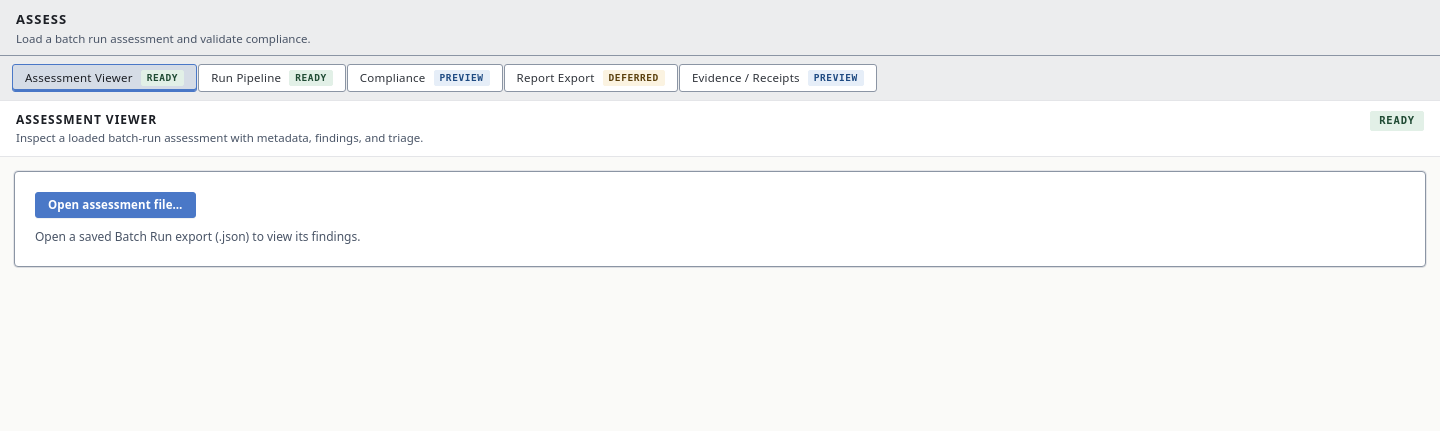
it: AssessPanel — ModeWorkbenchShell integration › clicking evidence_receipts shows deferred state with planned controls including Timestamp timeline
Step 1. Click the tab with test id "mwb-tool-evidence_receipts" → (778, 78), box [679,64,877,92]
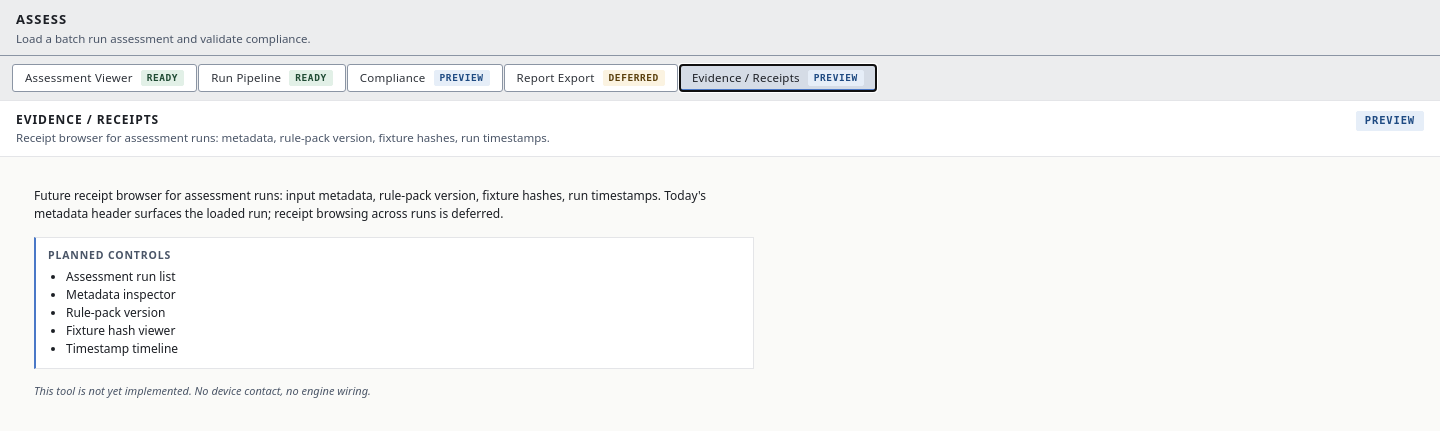
Now the element with test id "mwb-deferred-evidence_receipts" is shown, box [14,171,774,415]
Now the list item "Timestamp timeline" is shown, box [66,340,178,357]
